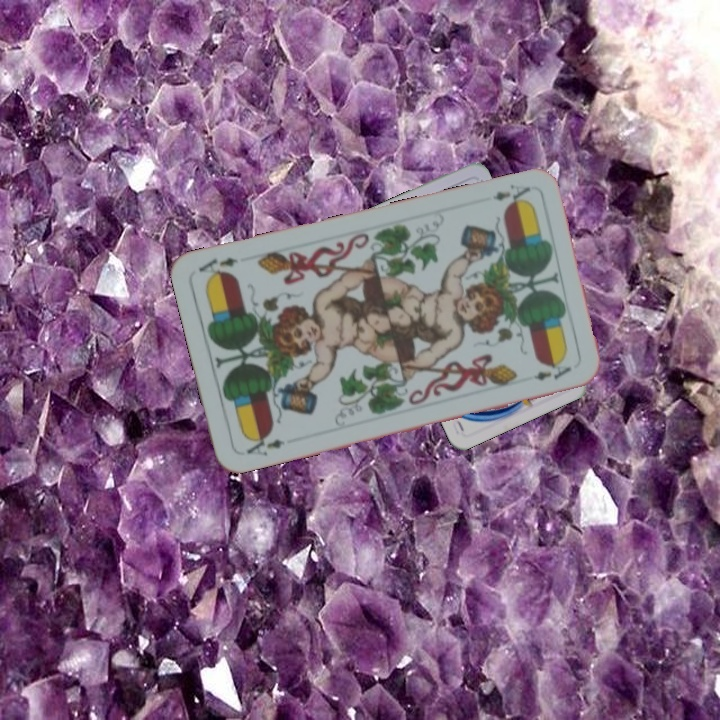EA: (488, 180, 533, 210), (242, 430, 288, 459)
